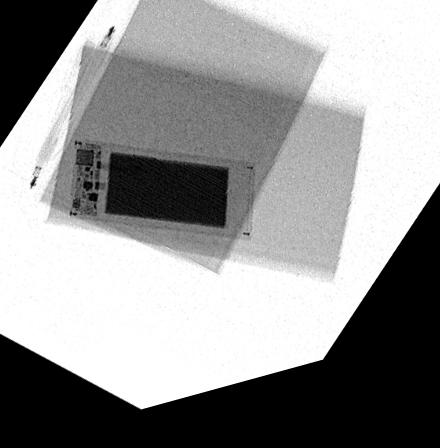Powerbank: (69, 141, 256, 255)
